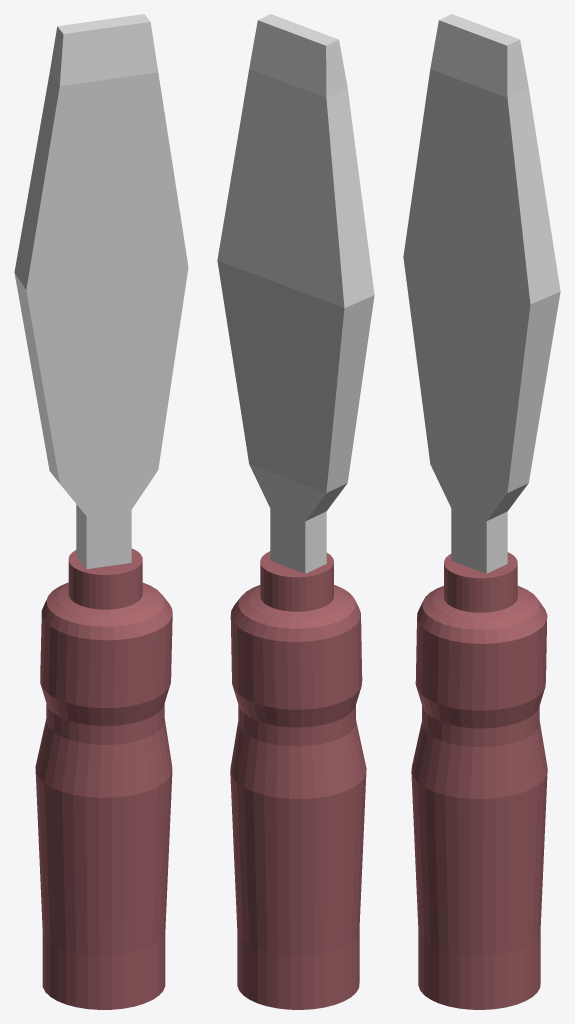
The model's file is Chisel2.fbx.
3 renders of one model, left to right at view 1: azimuth 30°, elevation 25°; view 2: azimuth 150°, elevation 25°; view 3: azimuth 330°, elevation 25°, orthographic.
Parts seen in each view (by area): view 1: Chisel.002; view 2: Chisel.002; view 3: Chisel.002.
Boxes of the visible parts, <box> form: Chisel.002: <box>14,14,188,1009</box>; Chisel.002: <box>217,14,374,1009</box>; Chisel.002: <box>403,14,560,1009</box>.
Size of the model in its own units: 49.79 by 38.38 by 296.
